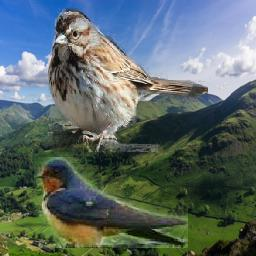Sparrow: (48, 8, 208, 152)
Swallow: (34, 158, 188, 249)
